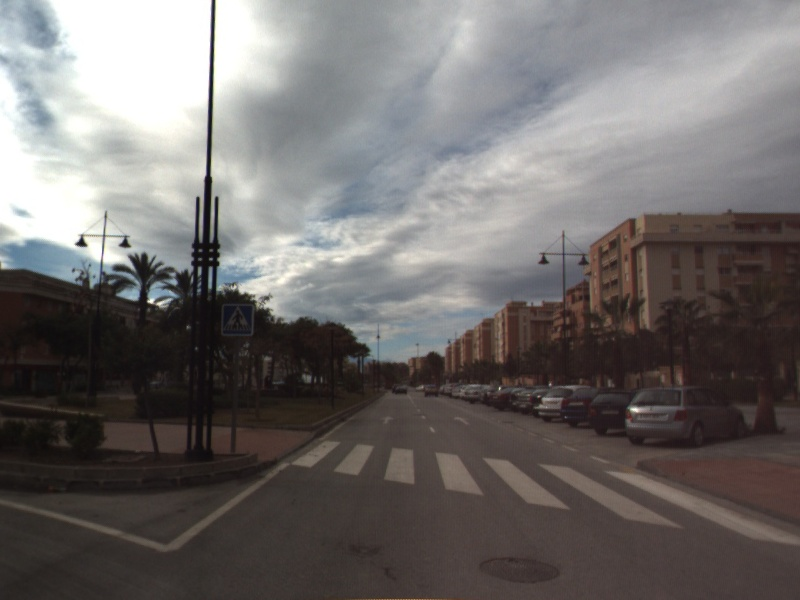STRAIGHT: (452, 414, 471, 426), (378, 414, 396, 425)
